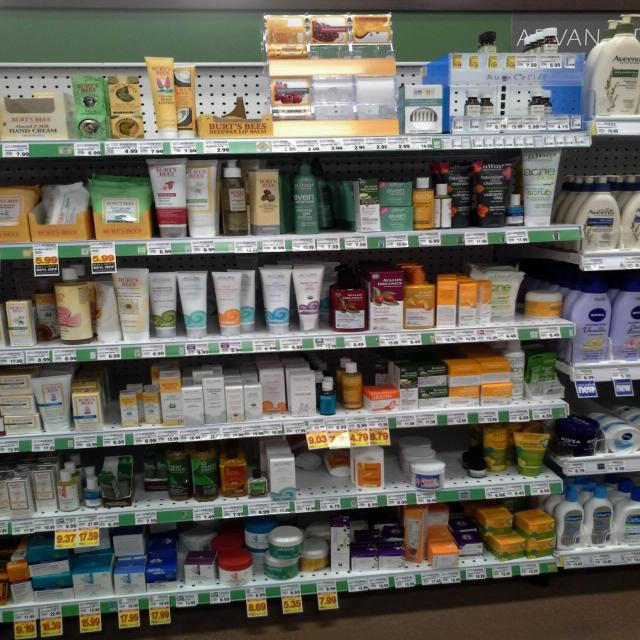empty_space: (5, 74, 49, 110), (302, 476, 346, 492), (102, 389, 120, 423), (384, 456, 400, 489), (446, 444, 460, 480), (138, 490, 170, 505)
